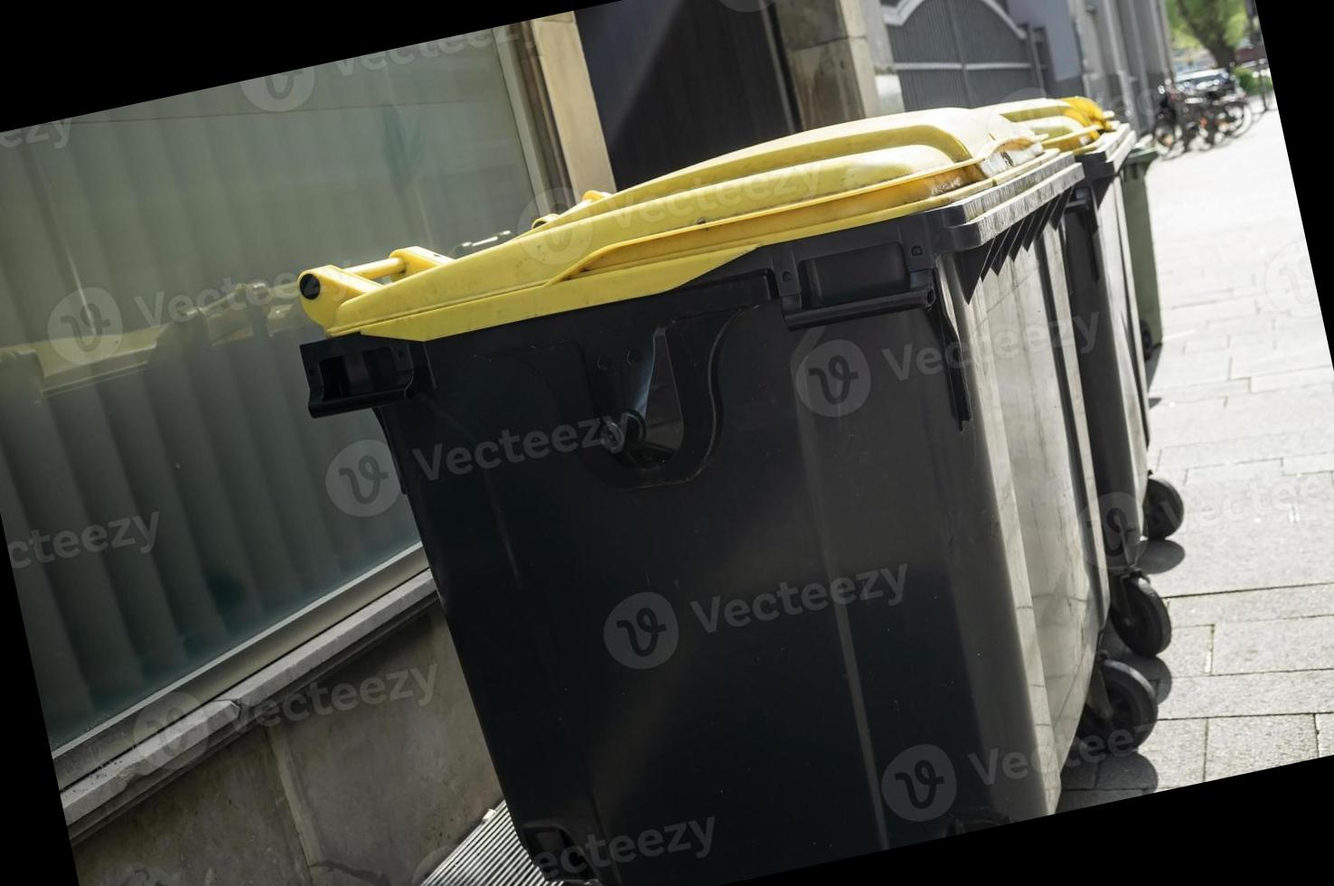pavement: (1058, 108, 1334, 810)
